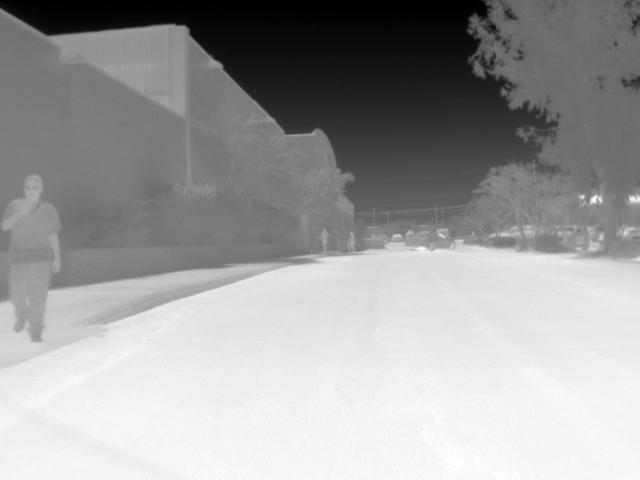car: (407, 230, 455, 251), (558, 224, 590, 251), (390, 232, 405, 244)
person: (3, 170, 64, 345), (319, 226, 333, 253), (345, 230, 358, 252)
